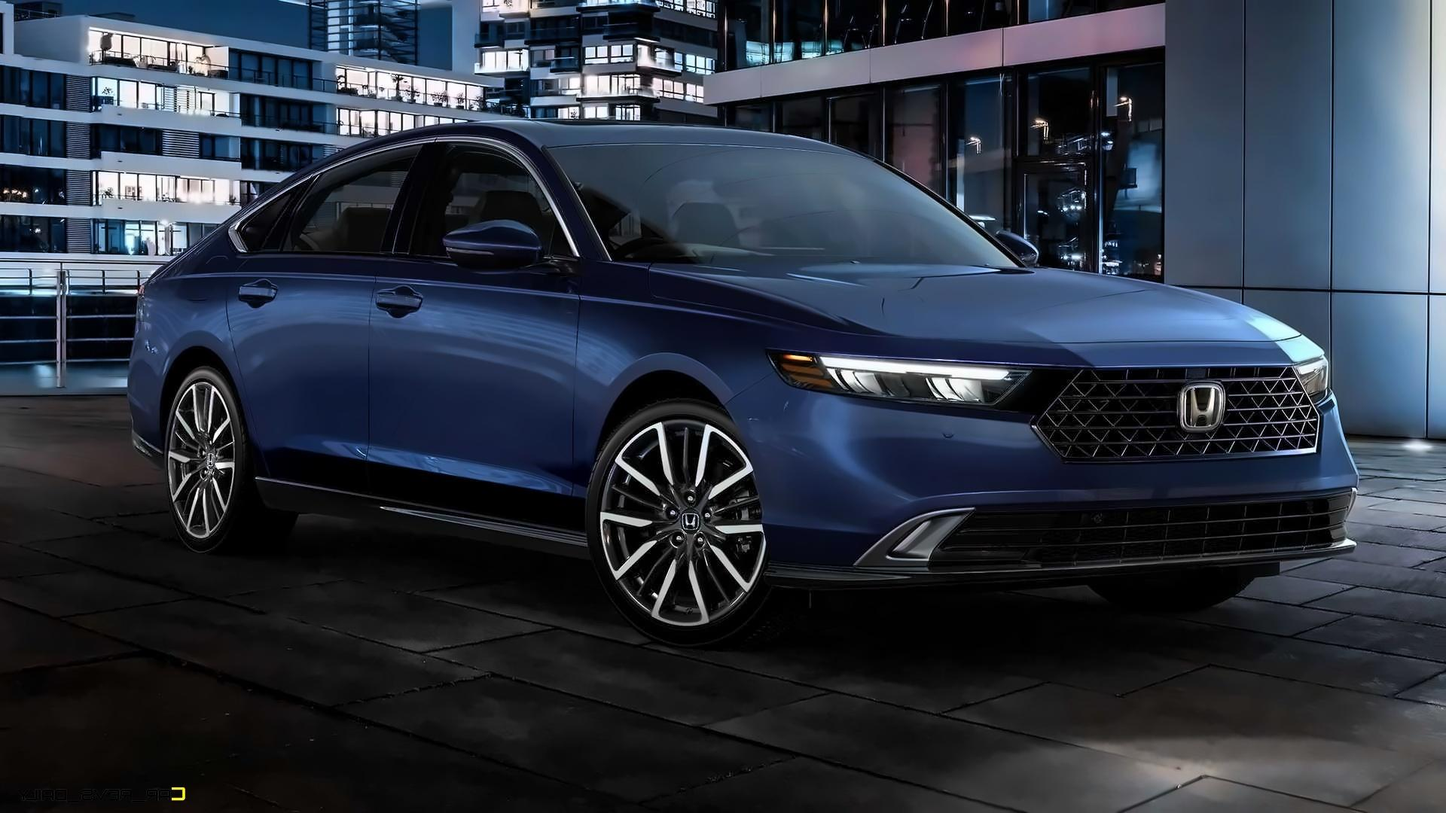Car hood: (619, 252, 1327, 370)
Driver-s door - -F-R-: (354, 113, 609, 556)
Fender - -F-R-: (569, 239, 804, 505)
Fender - -R-R-: (130, 191, 244, 409)
Front bumper: (719, 374, 1362, 589)
Headlight - -L-: (1282, 355, 1342, 402)
Headlight - -R-: (766, 340, 1072, 427)
Passenger-s door - -R-R-: (224, 103, 440, 524)
Rear bumper: (119, 380, 173, 471)
Side bumper - -R-: (225, 407, 592, 579)
Side mirror - -R-: (436, 221, 574, 285)
